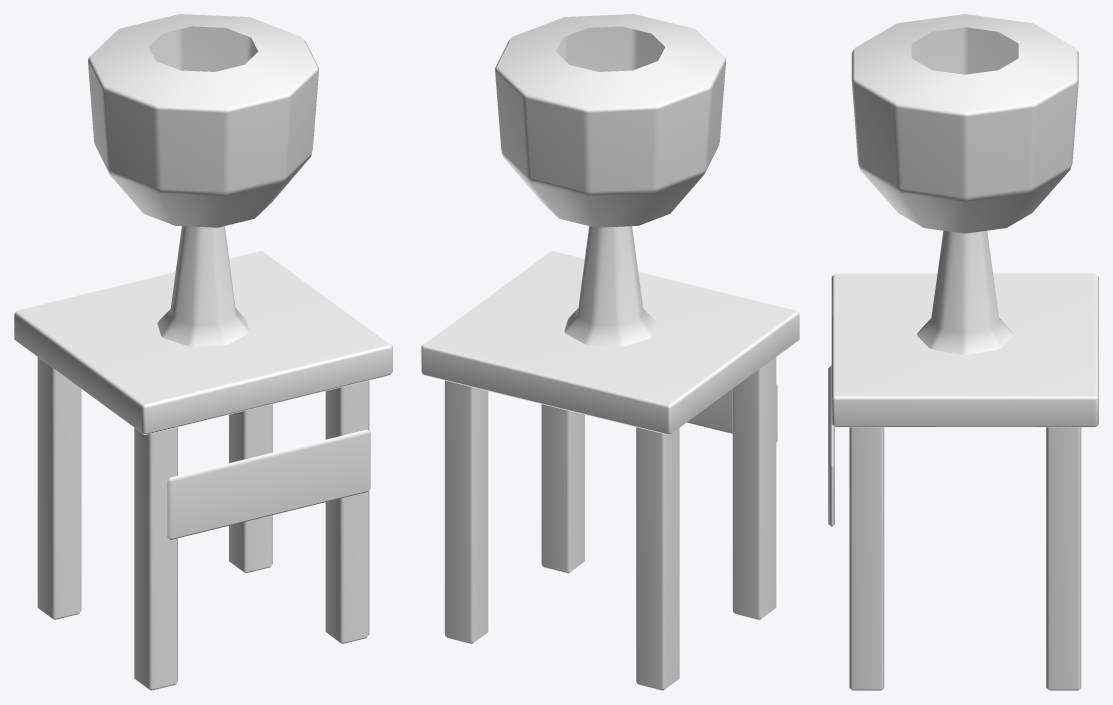
File: side_table.glb
3 renders of one model, left to right at view 1: azimuth 30°, elevation 25°; view 2: azimuth 150°, elevation 25°; view 3: azimuth 270°, elevation 25°, orthographic.
Parts seen in each view (by area): view 1: SideTable; view 2: SideTable; view 3: SideTable.
Boxes of the visible parts, x1,y1,x2,y2 form: SideTable: [14, 14, 392, 690]; SideTable: [421, 14, 799, 690]; SideTable: [828, 14, 1098, 690].
Size of the model in its own units: 0.42 by 0.92 by 0.385.
1 material, 1 textured.
